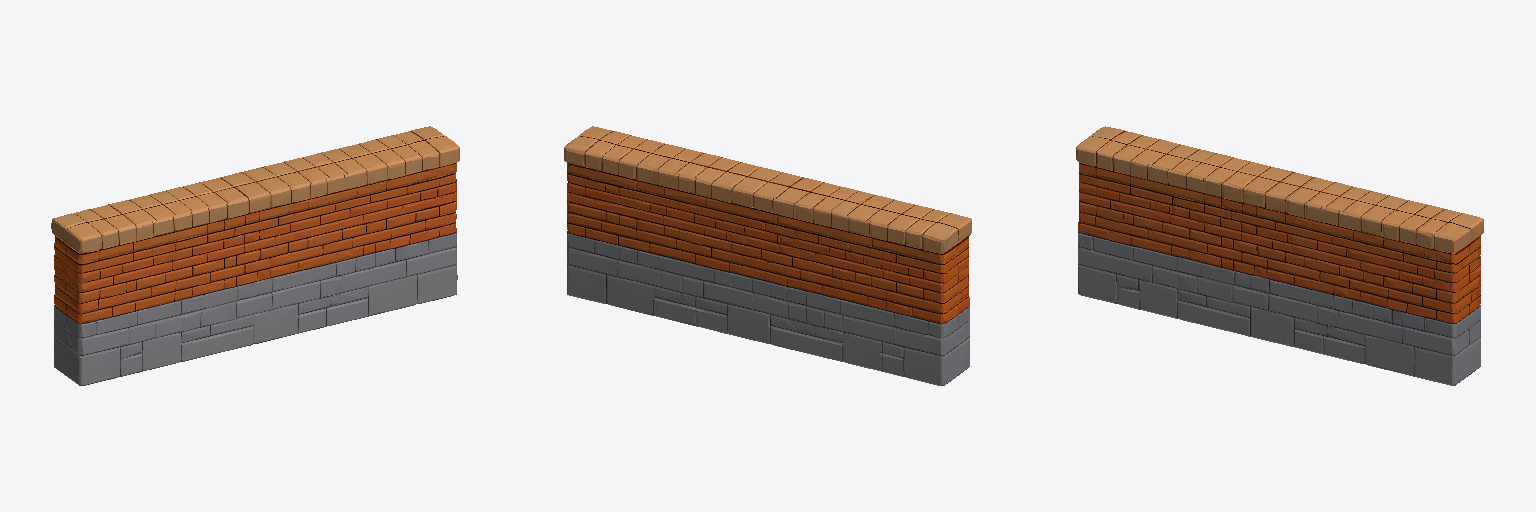
3 views of the same model, side by side, from view 1: azimuth 30°, elevation 25°; view 2: azimuth 150°, elevation 25°; view 3: azimuth 330°, elevation 25° (orthographic).
Visible parts, largest first — view 1: 3_1234_30_5.0_384_8000; view 2: 3_1234_30_5.0_384_8000; view 3: 3_1234_30_5.0_384_8000.
Part boxes in pixels (x1,y1,x2,y2): 3_1234_30_5.0_384_8000: (51, 126, 459, 385); 3_1234_30_5.0_384_8000: (564, 126, 971, 385); 3_1234_30_5.0_384_8000: (1076, 126, 1483, 385).
Bounding box in the file's own units: 1.99 × 0.7576 × 0.2758.
1 materials, 1 textured.